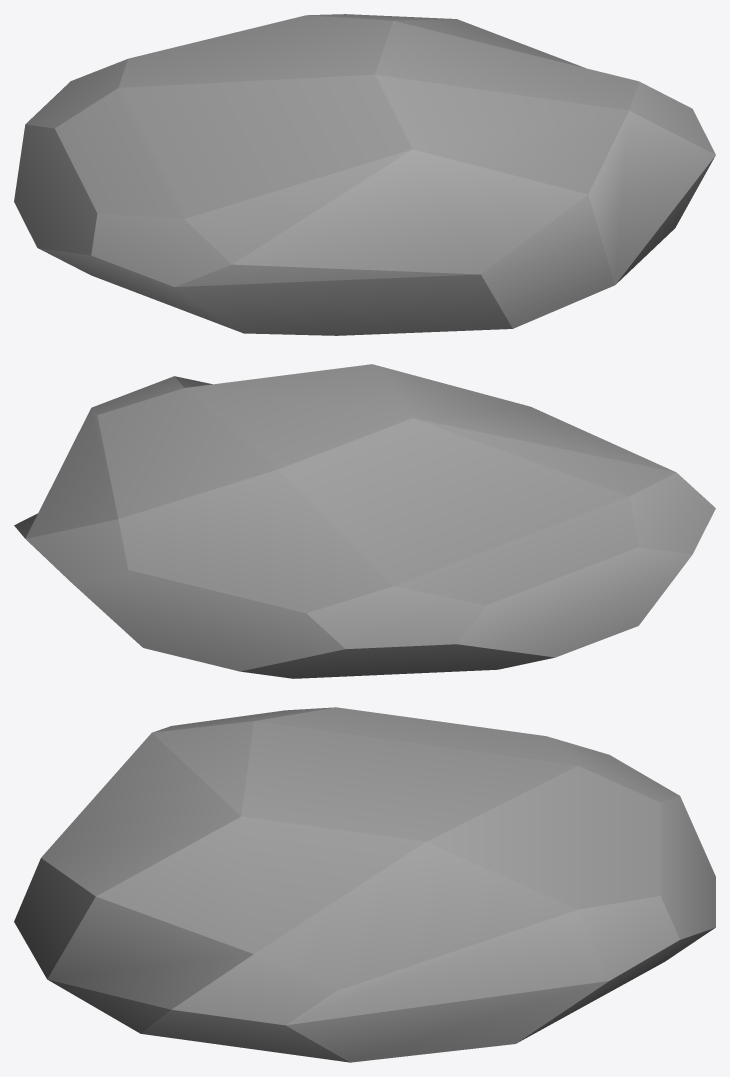
Rendered from Rock_2.fbx.
The picture shows the model from 3 angles, top to bottom: view 1: azimuth 30°, elevation 25°; view 2: azimuth 150°, elevation 25°; view 3: azimuth 270°, elevation 25°; orthographic projection. The views are drawn at different scales.
Visible parts, largest first — view 1: Icosphere.039; view 2: Icosphere.039; view 3: Icosphere.039.
Boxes of the visible parts, <box> form: Icosphere.039: <box>14,14,715,335</box>; Icosphere.039: <box>14,364,715,678</box>; Icosphere.039: <box>14,707,715,1062</box>.
Size of the model in its own units: 326 by 66.04 by 307.
